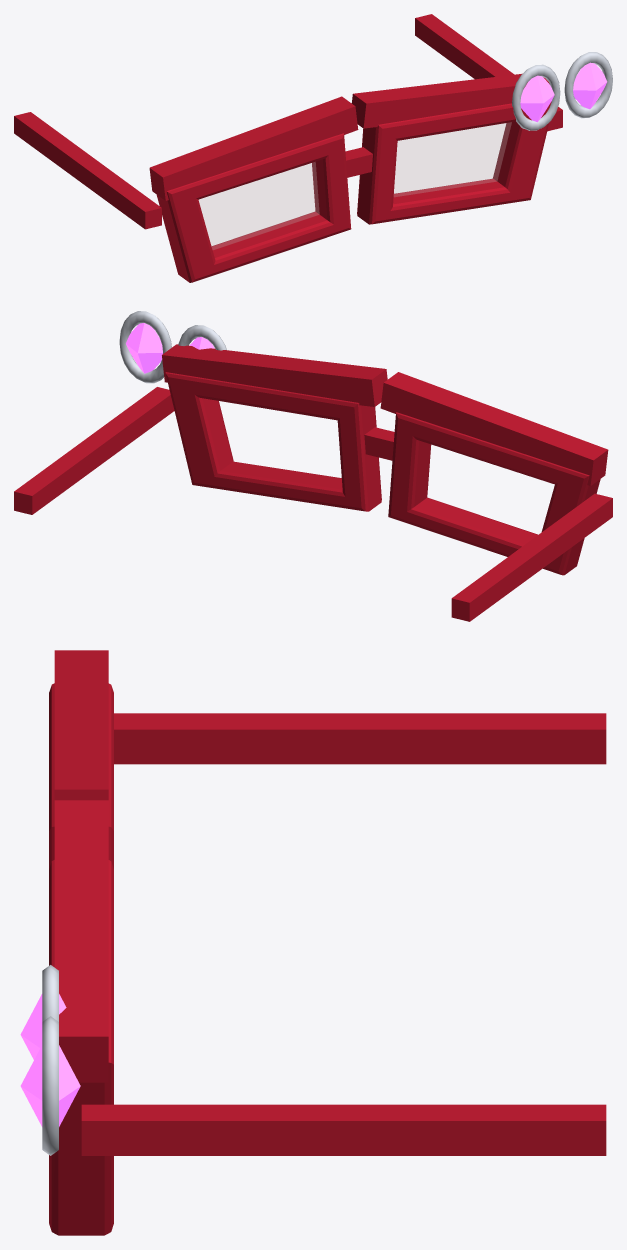
File: gl_eqko2.glb
The picture shows the model from 3 angles, top to bottom: view 1: azimuth 30°, elevation 25°; view 2: azimuth 150°, elevation 25°; view 3: azimuth 270°, elevation 25°; orthographic projection. The views are drawn at different scales.
Size of the model in its own units: 2.12 by 0.6041 by 1.17.
